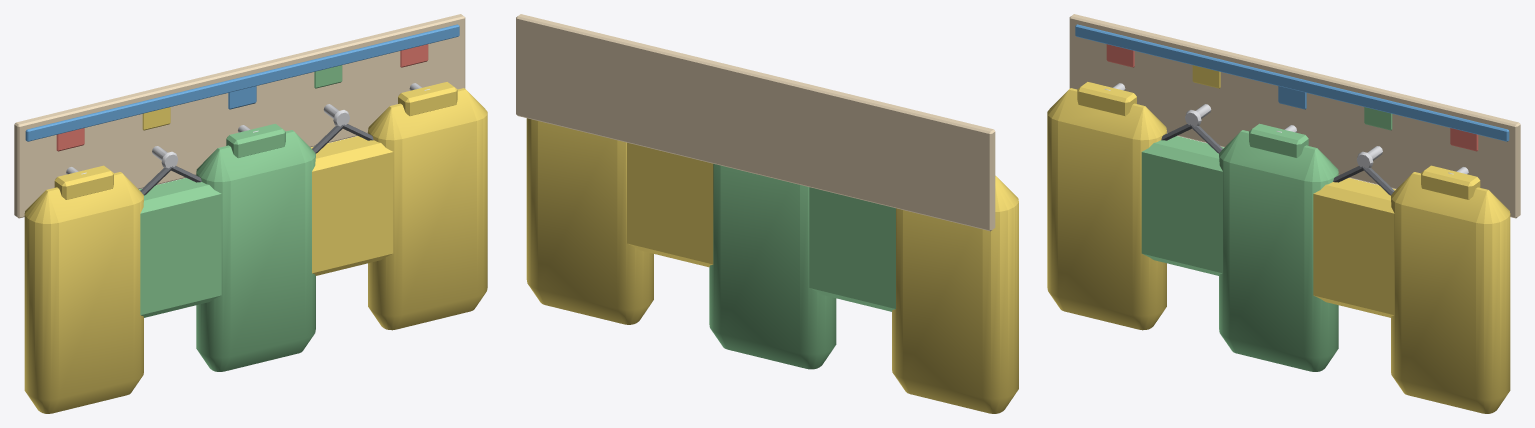
Rendered from nursery-and-primary-classroom-coat-peg-rail-ebc8e1e1__34996.glb.
3 renders of one model, left to right at view 1: azimuth 30°, elevation 25°; view 2: azimuth 150°, elevation 25°; view 3: azimuth 330°, elevation 25°, orthographic. The views are drawn at different scales.
Parts seen in each view (by area): view 1: coat-peg-rail; view 2: coat-peg-rail; view 3: coat-peg-rail.
Part boxes in pixels (box(x1,y1,x2,y2)): coat-peg-rail: box(14, 14, 487, 413); coat-peg-rail: box(516, 14, 1018, 413); coat-peg-rail: box(1047, 14, 1520, 413).
Bounding box in the file's own units: 1.22 × 0.71 × 0.141.
